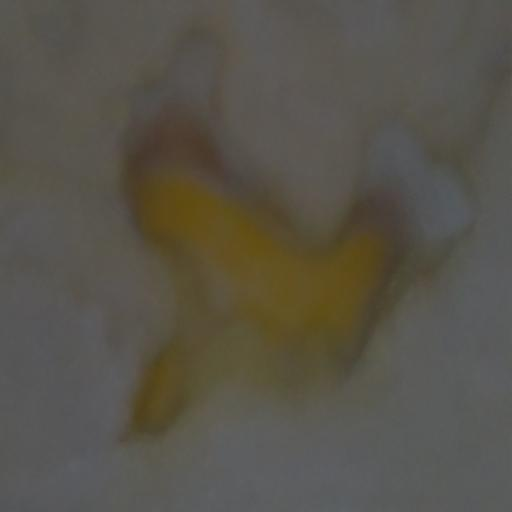algae: (108, 71, 446, 491)
